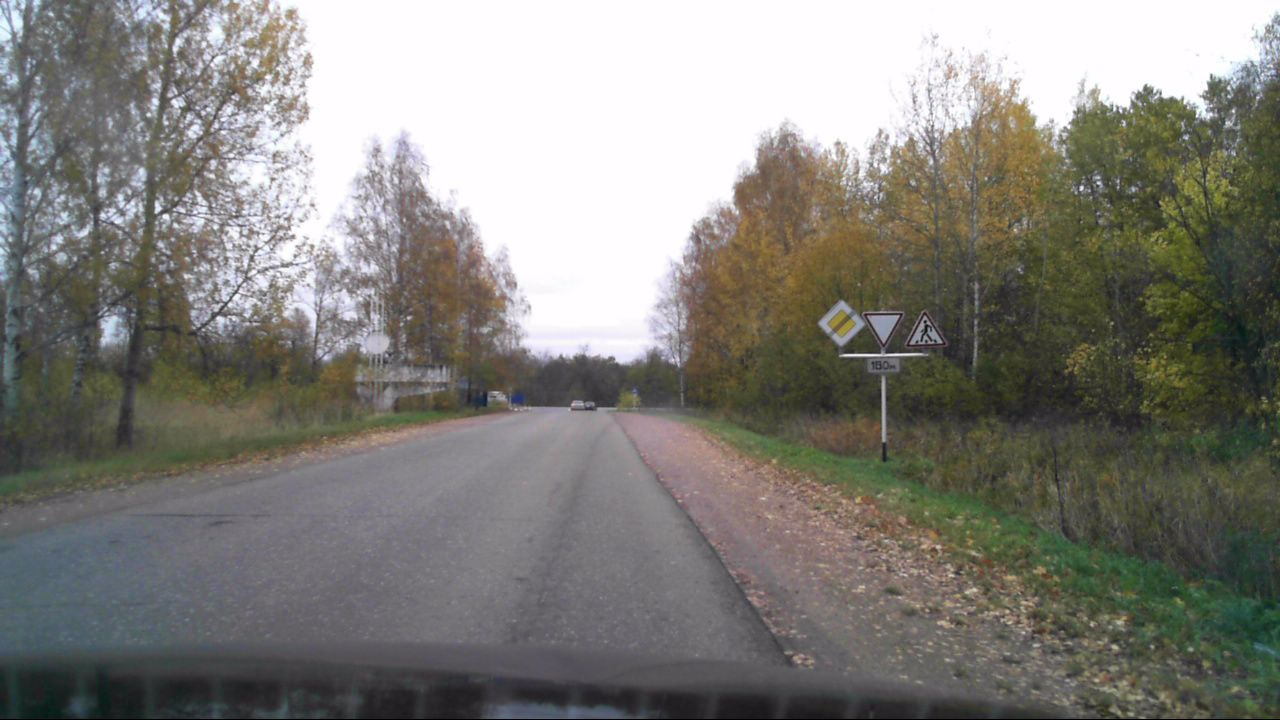main road: (817, 298, 866, 349)
